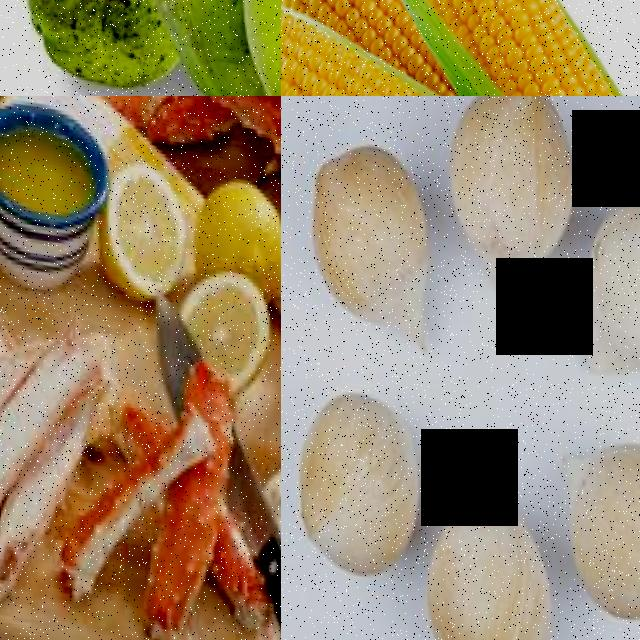coconut: (433, 96, 585, 311), (281, 376, 427, 582), (300, 126, 434, 342), (412, 480, 560, 640), (553, 425, 640, 625), (572, 154, 640, 388), (124, 0, 273, 96), (14, 0, 149, 96)
corn: (508, 0, 640, 96), (357, 0, 533, 51), (325, 51, 516, 96)
crab: (51, 378, 225, 640)
